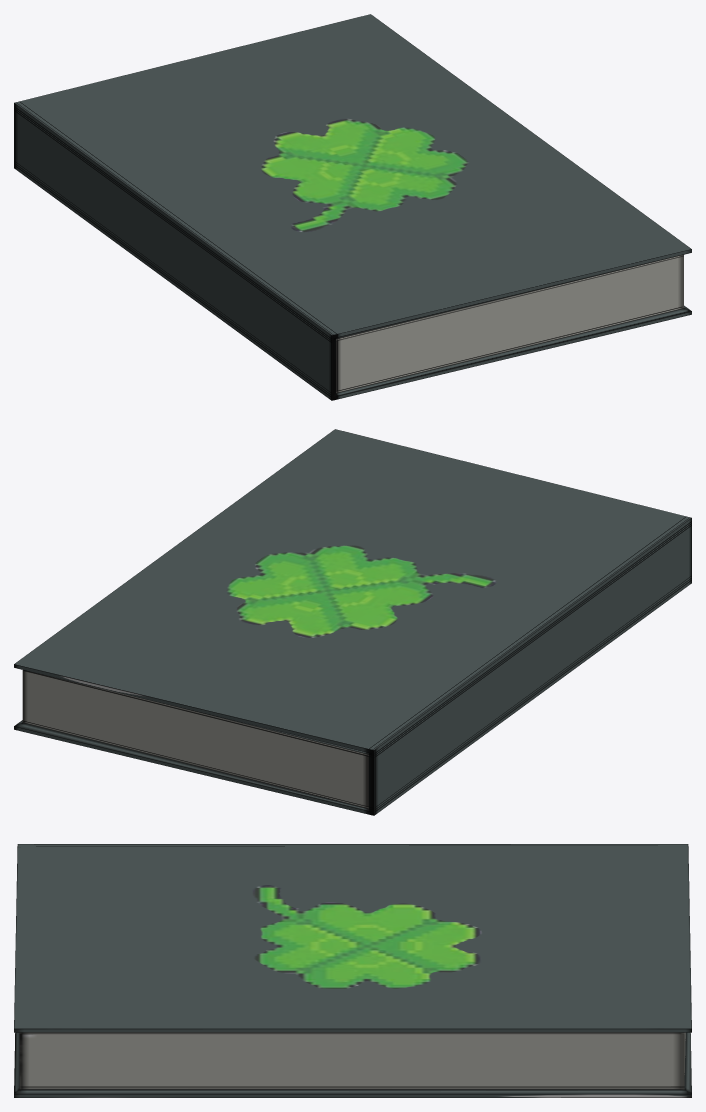
The model's file is livro coletavel.glb.
The picture shows the model from 3 angles, top to bottom: view 1: azimuth 30°, elevation 25°; view 2: azimuth 150°, elevation 25°; view 3: azimuth 270°, elevation 25°; orthographic projection. The views are drawn at different scales.
Visible parts, largest first — view 1: Cube.001; view 2: Cube.001; view 3: Cube.001.
Part boxes in pixels (bbox=[...]): Cube.001: bbox=[14, 14, 691, 400]; Cube.001: bbox=[14, 429, 691, 815]; Cube.001: bbox=[14, 844, 691, 1097].
Size of the model in its own units: 2 by 0.3489 by 3.1.
Materials: 1 (1 with a texture image).
